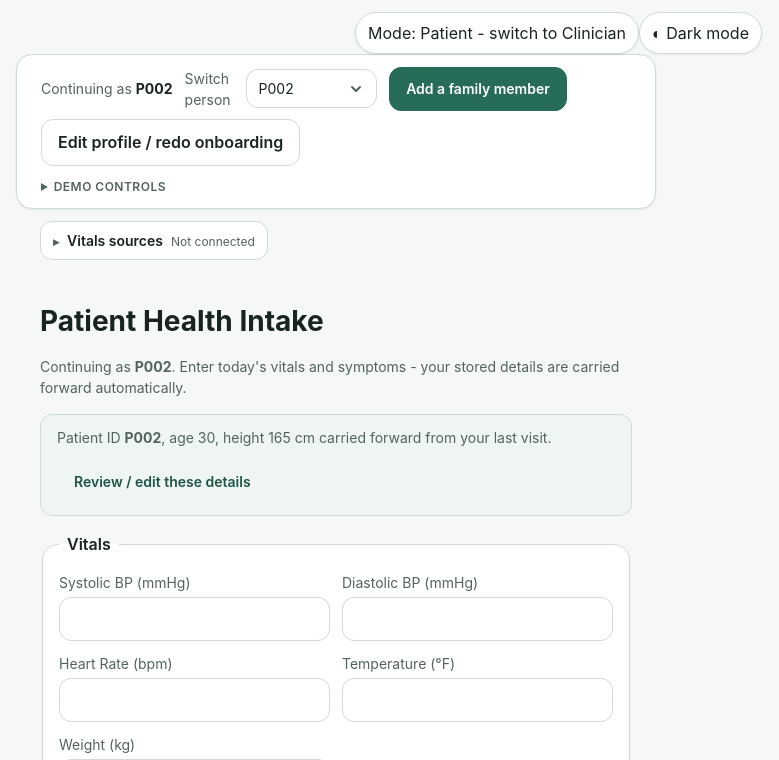
Scenario: App multi-person switching › switches between saved people without leaking one person's data into another
Expected: the text "age 45" is not shown
Select "P001" in the dropdown labelled "Switch person": (311,89) [246,69,377,108]
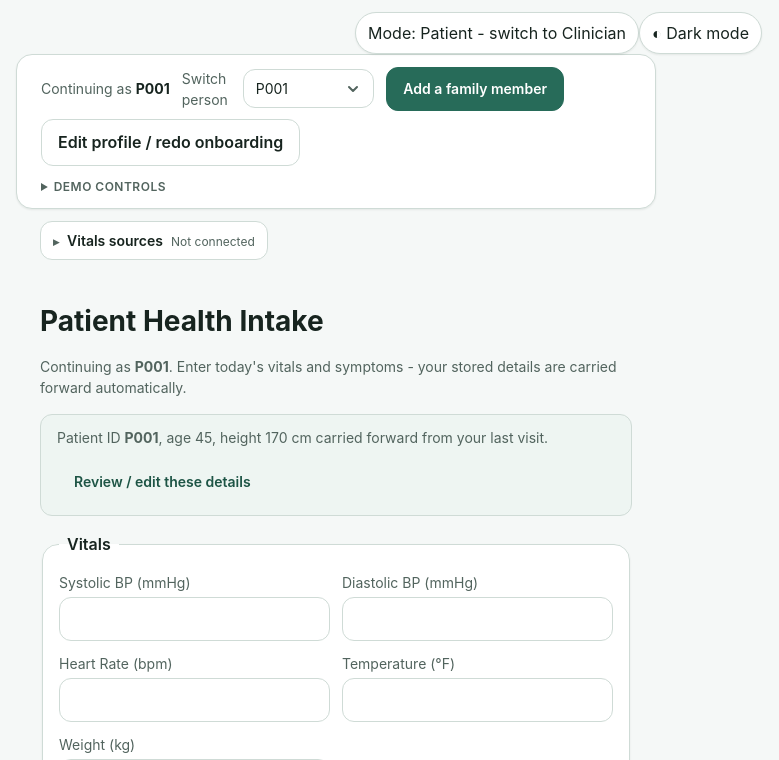
Result: the text "P001" is shown at [136,80,170,97]
Result: the text "age 45" is shown at [57,427,548,448]
Result: the text "age 30" is gone
